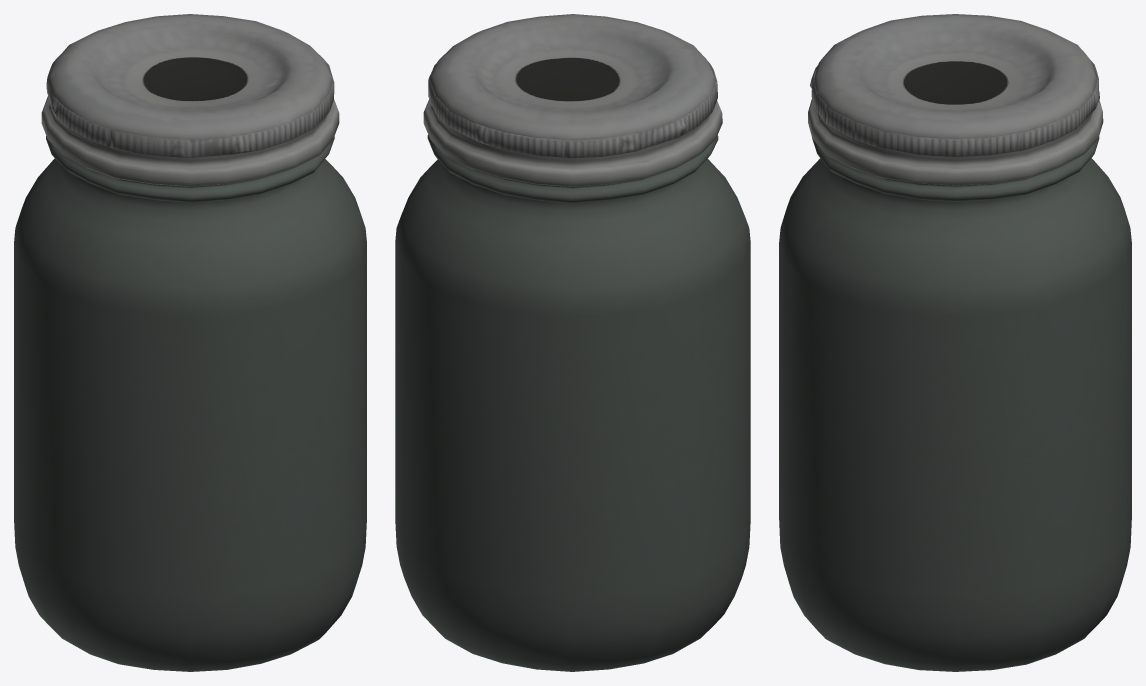
The model's file is jar.glb.
3 renders of one model, left to right at view 1: azimuth 30°, elevation 25°; view 2: azimuth 150°, elevation 25°; view 3: azimuth 270°, elevation 25°, orthographic.
Parts seen in each view (by area): view 1: tripo_node_ccdc083c-007a-4627-8e68-2b149269a86c; view 2: tripo_node_ccdc083c-007a-4627-8e68-2b149269a86c; view 3: tripo_node_ccdc083c-007a-4627-8e68-2b149269a86c.
Boxes of the visible parts, x1,y1,x2,y2 form: tripo_node_ccdc083c-007a-4627-8e68-2b149269a86c: [14, 14, 366, 671]; tripo_node_ccdc083c-007a-4627-8e68-2b149269a86c: [395, 14, 750, 671]; tripo_node_ccdc083c-007a-4627-8e68-2b149269a86c: [779, 14, 1131, 671].
Bounding box in the file's own units: 0.5845 × 0.9995 × 0.5845.
1 material, 1 textured.
